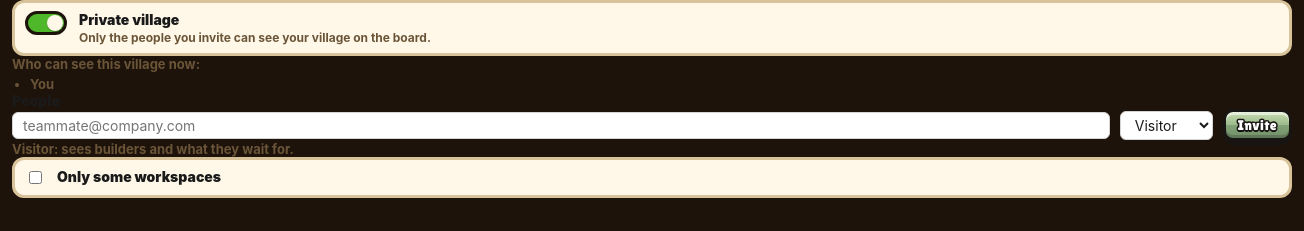
Test: what the board answers to an invite is shown
Type "nobody@elsewhere.com" into the field named "Their Vercel email" at (561, 125), box [12,112,1110,138]
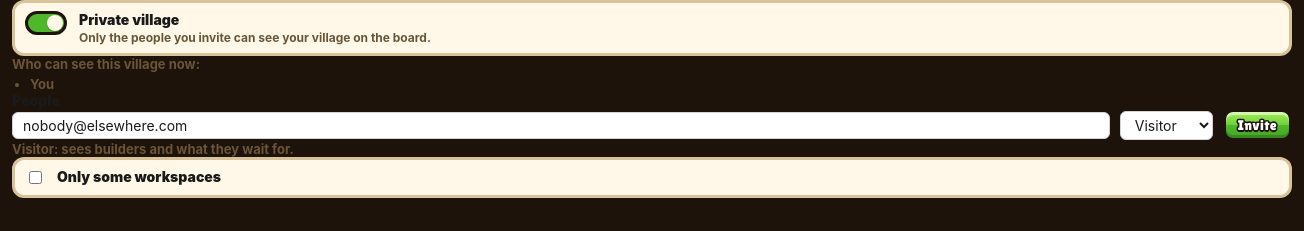
Click the button "Invite" at (1257, 125), box [1223,109,1292,141]
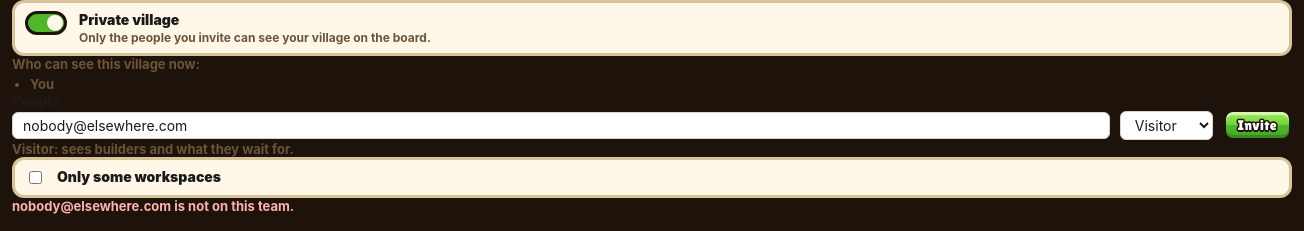
Check: the message shows "is not on this team", box [12,198,294,214]
